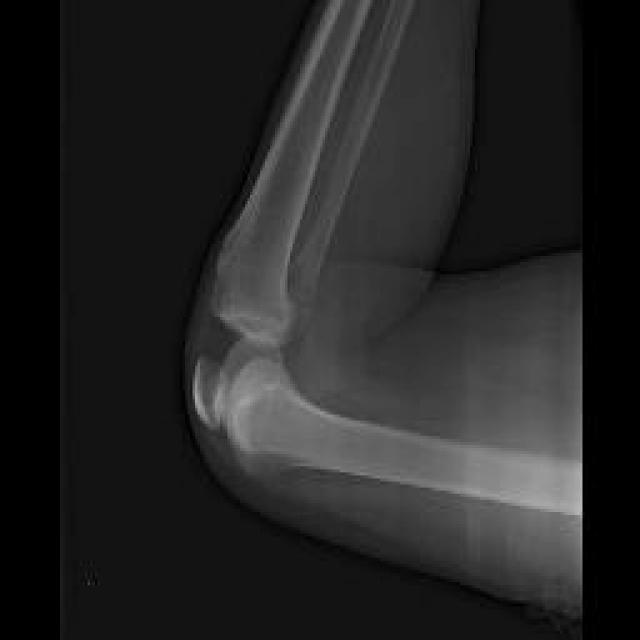normal: (191, 0, 576, 513)
